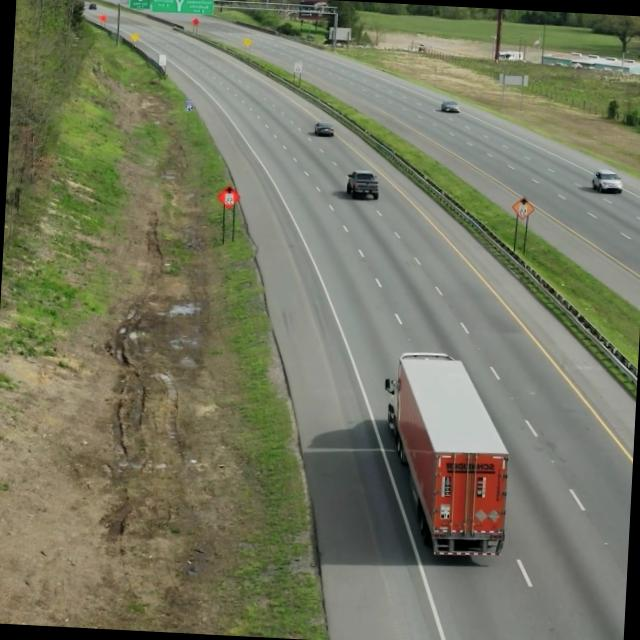Vehicle: (378, 346, 518, 566), (588, 165, 626, 201), (342, 167, 381, 201)
